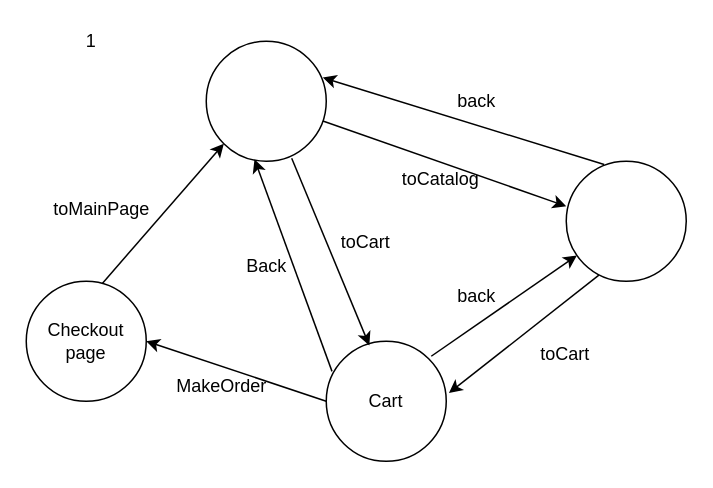
Some shapes in this 713 by 488 pixel diagram are drawn without their labels. Here are the shapes that lost their labels. From the top down, the centre of each, then its label:
At (x=265, y=100): "MainPage".
At (x=625, y=220): "Catalog".
